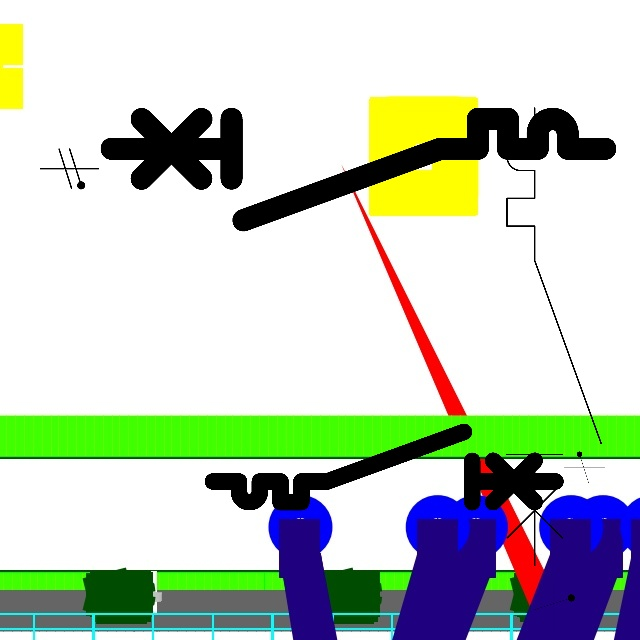interruptor_termomagnetico: (98, 106, 617, 233), (495, 96, 612, 577), (204, 423, 564, 511)
